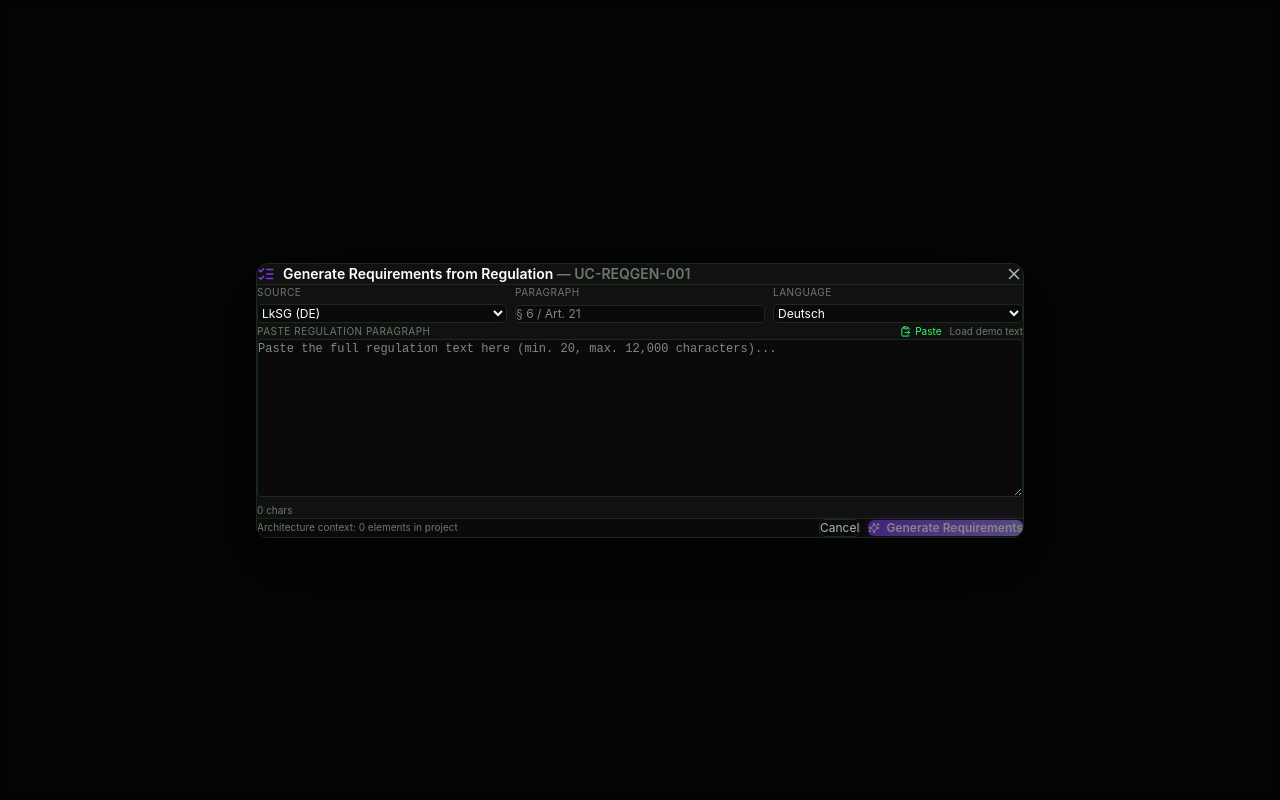
Test: a chain candidate shows chain provenance instead of misleading 0.00 scores
Replace the text in the text box with placeholder "Paste" with "Die Einrichtungen übermitteln binnen 72 Stunden nach Kenntnisnahme eine Meldung an das CSIRT." at (640, 418), box [257,338,1023,496]
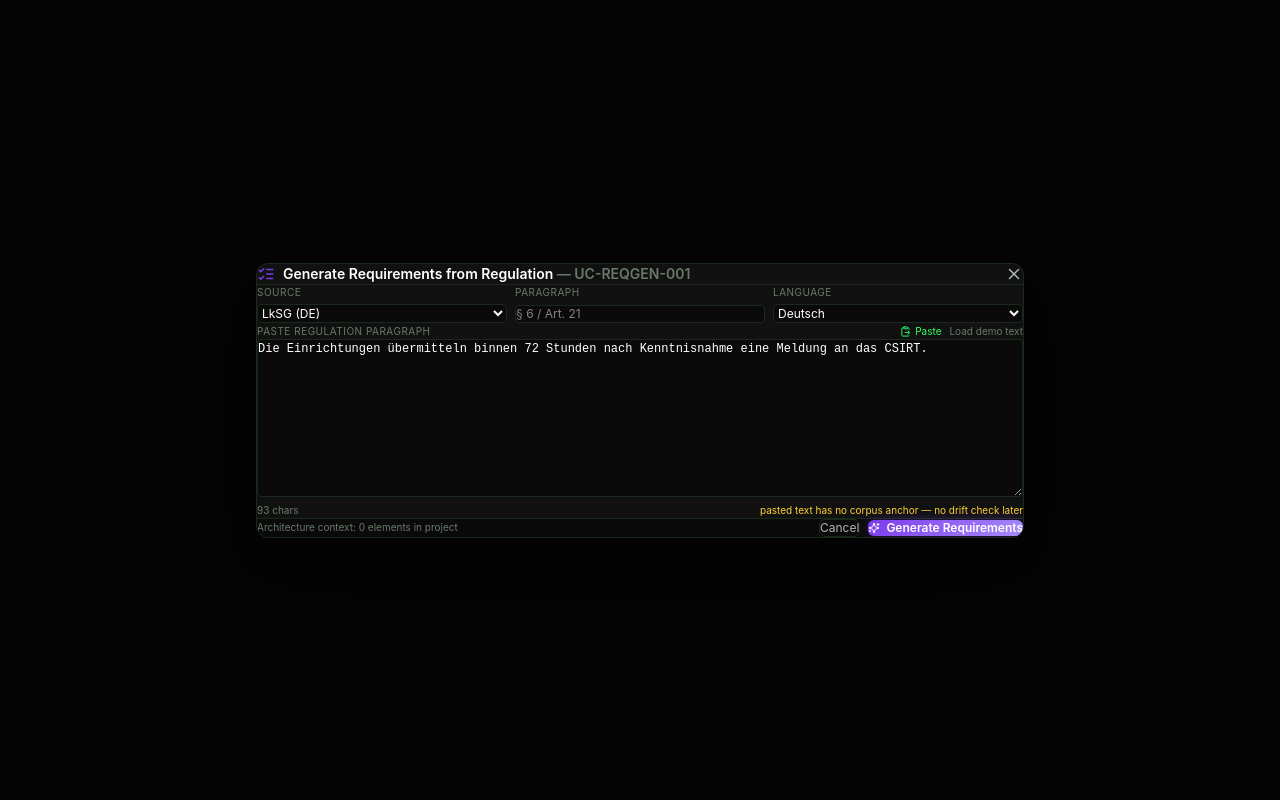
Click the button "Generate Requirements" at (946, 528), box [868,520,1023,536]
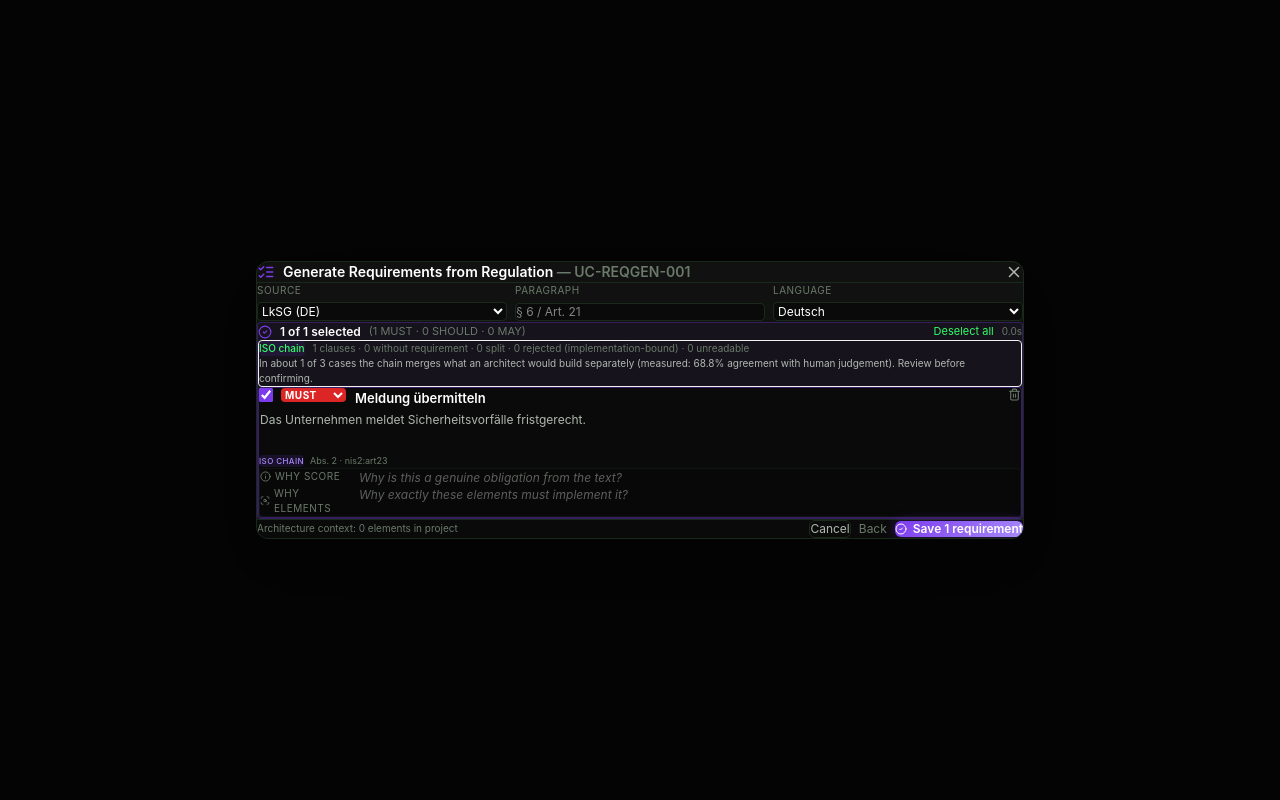
Expected: the element with test id "chain-provenance" is shown, [259,455,388,467]
Expected: the element with test id "chain-provenance" shows "Abs. 2", [310,455,337,466]
